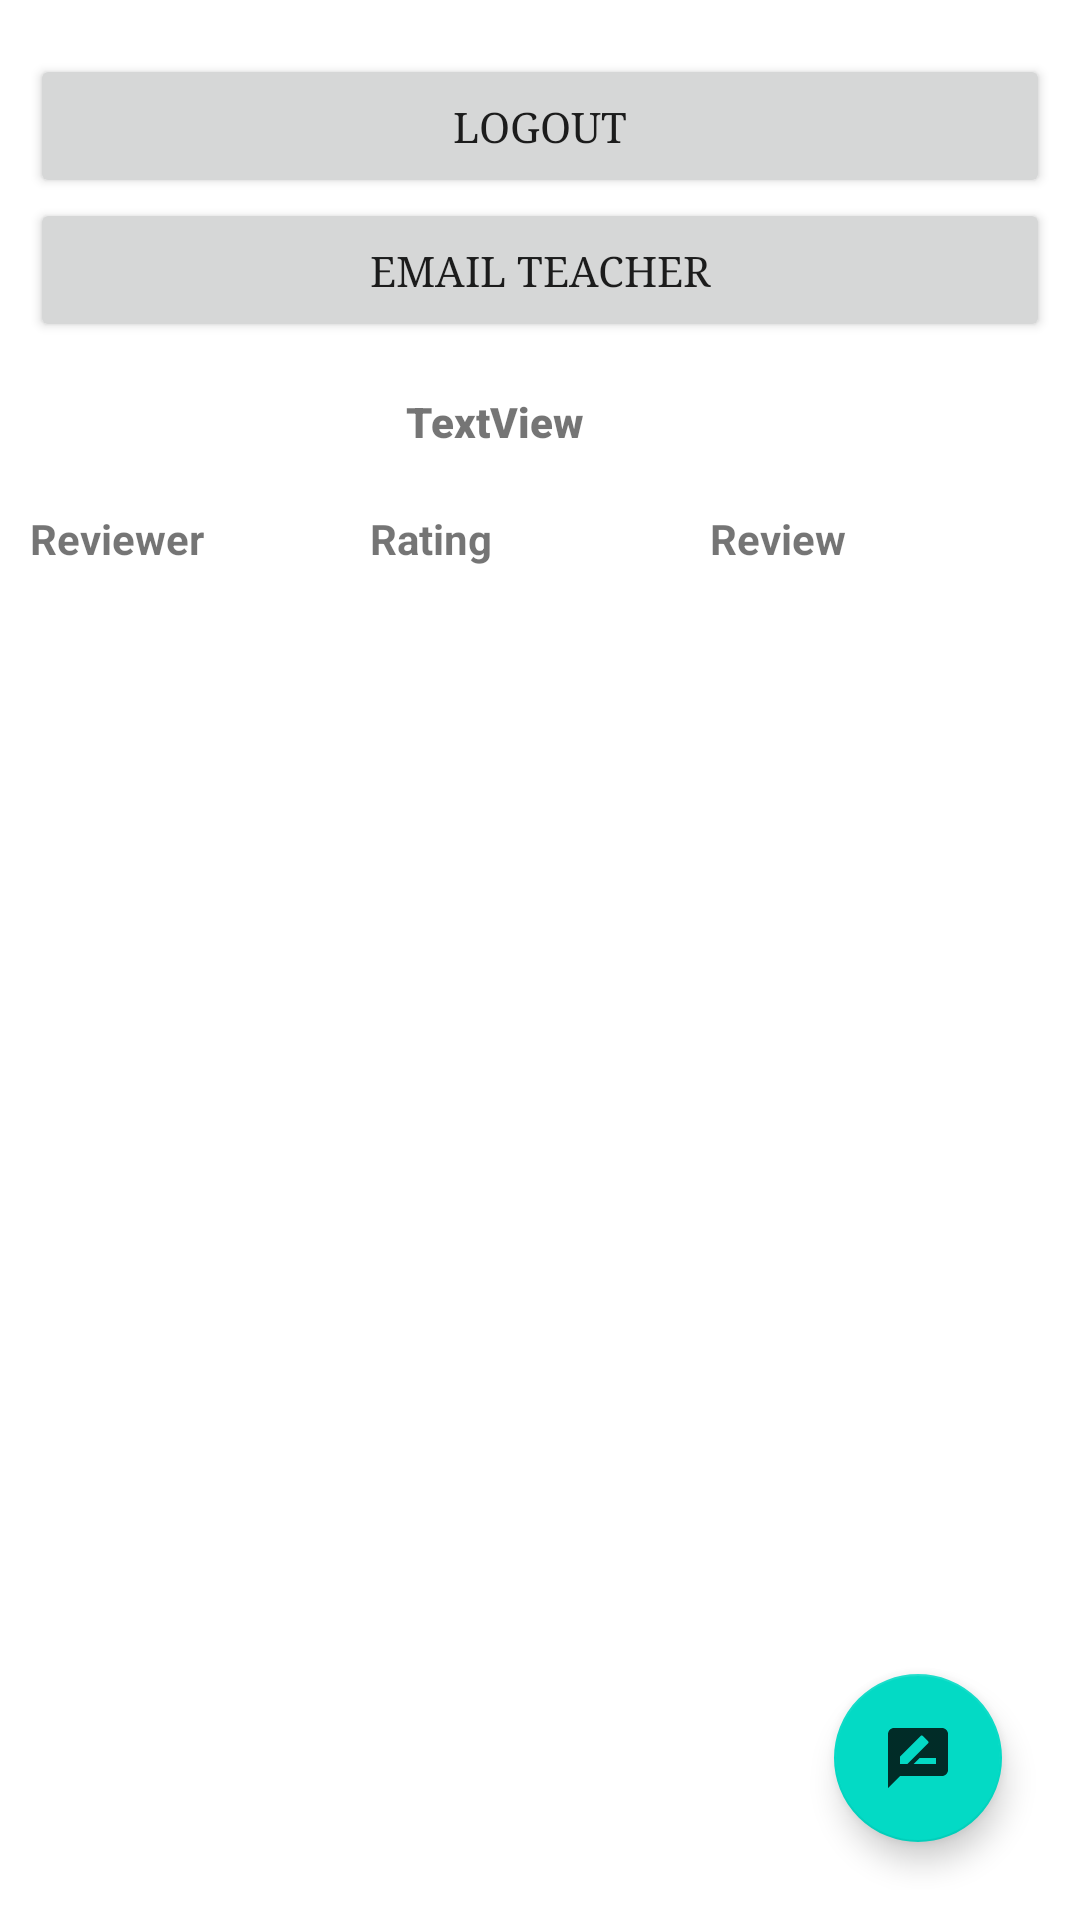

Icon bounding boxes for this 1080 x 1920 phone screenshot, format (x1, y1, x2, y2):
review: (834, 1674, 1002, 1842)
